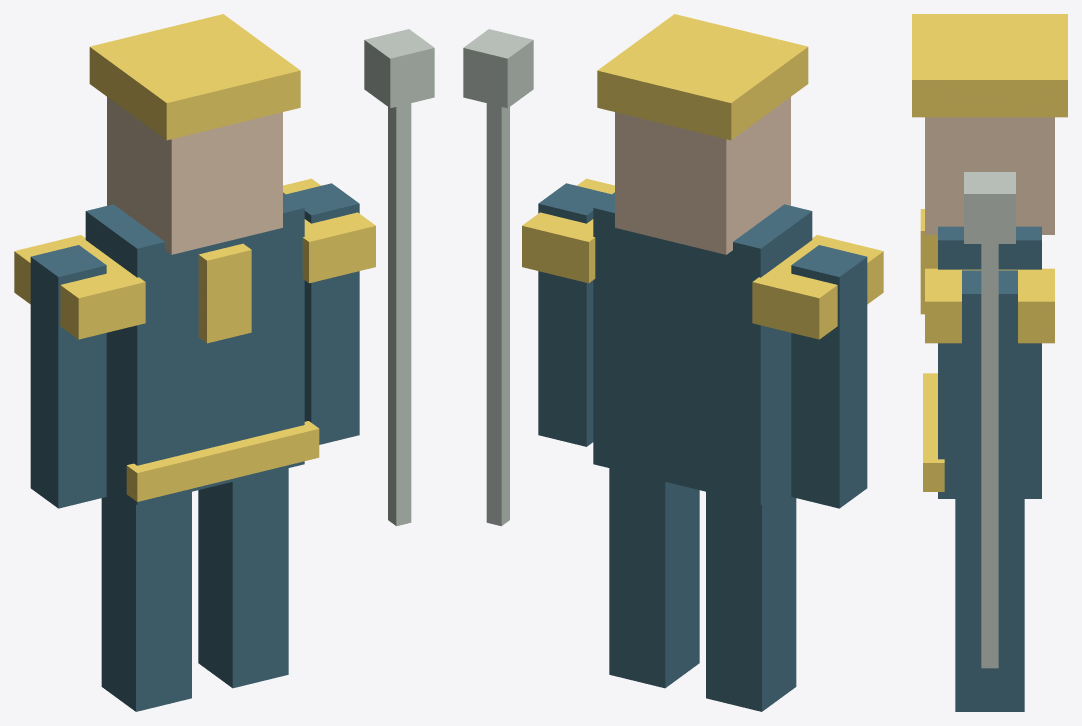
Rendered from 20_sable_cragwarden_diver_of_arrival.glb.
The picture shows the model from 3 angles, left to right: view 1: azimuth 30°, elevation 25°; view 2: azimuth 150°, elevation 25°; view 3: azimuth 270°, elevation 25°; orthographic projection.
Parts seen in each view (by area): view 1: Sable Cragwarden, Diver of Arrival; view 2: Sable Cragwarden, Diver of Arrival; view 3: Sable Cragwarden, Diver of Arrival.
Boxes of the visible parts, x1,y1,x2,y2 form: Sable Cragwarden, Diver of Arrival: (14,14,434,711); Sable Cragwarden, Diver of Arrival: (463,14,883,711); Sable Cragwarden, Diver of Arrival: (912,14,1067,711).
Size of the model in its own units: 1.03 by 1.63 by 0.3666.
